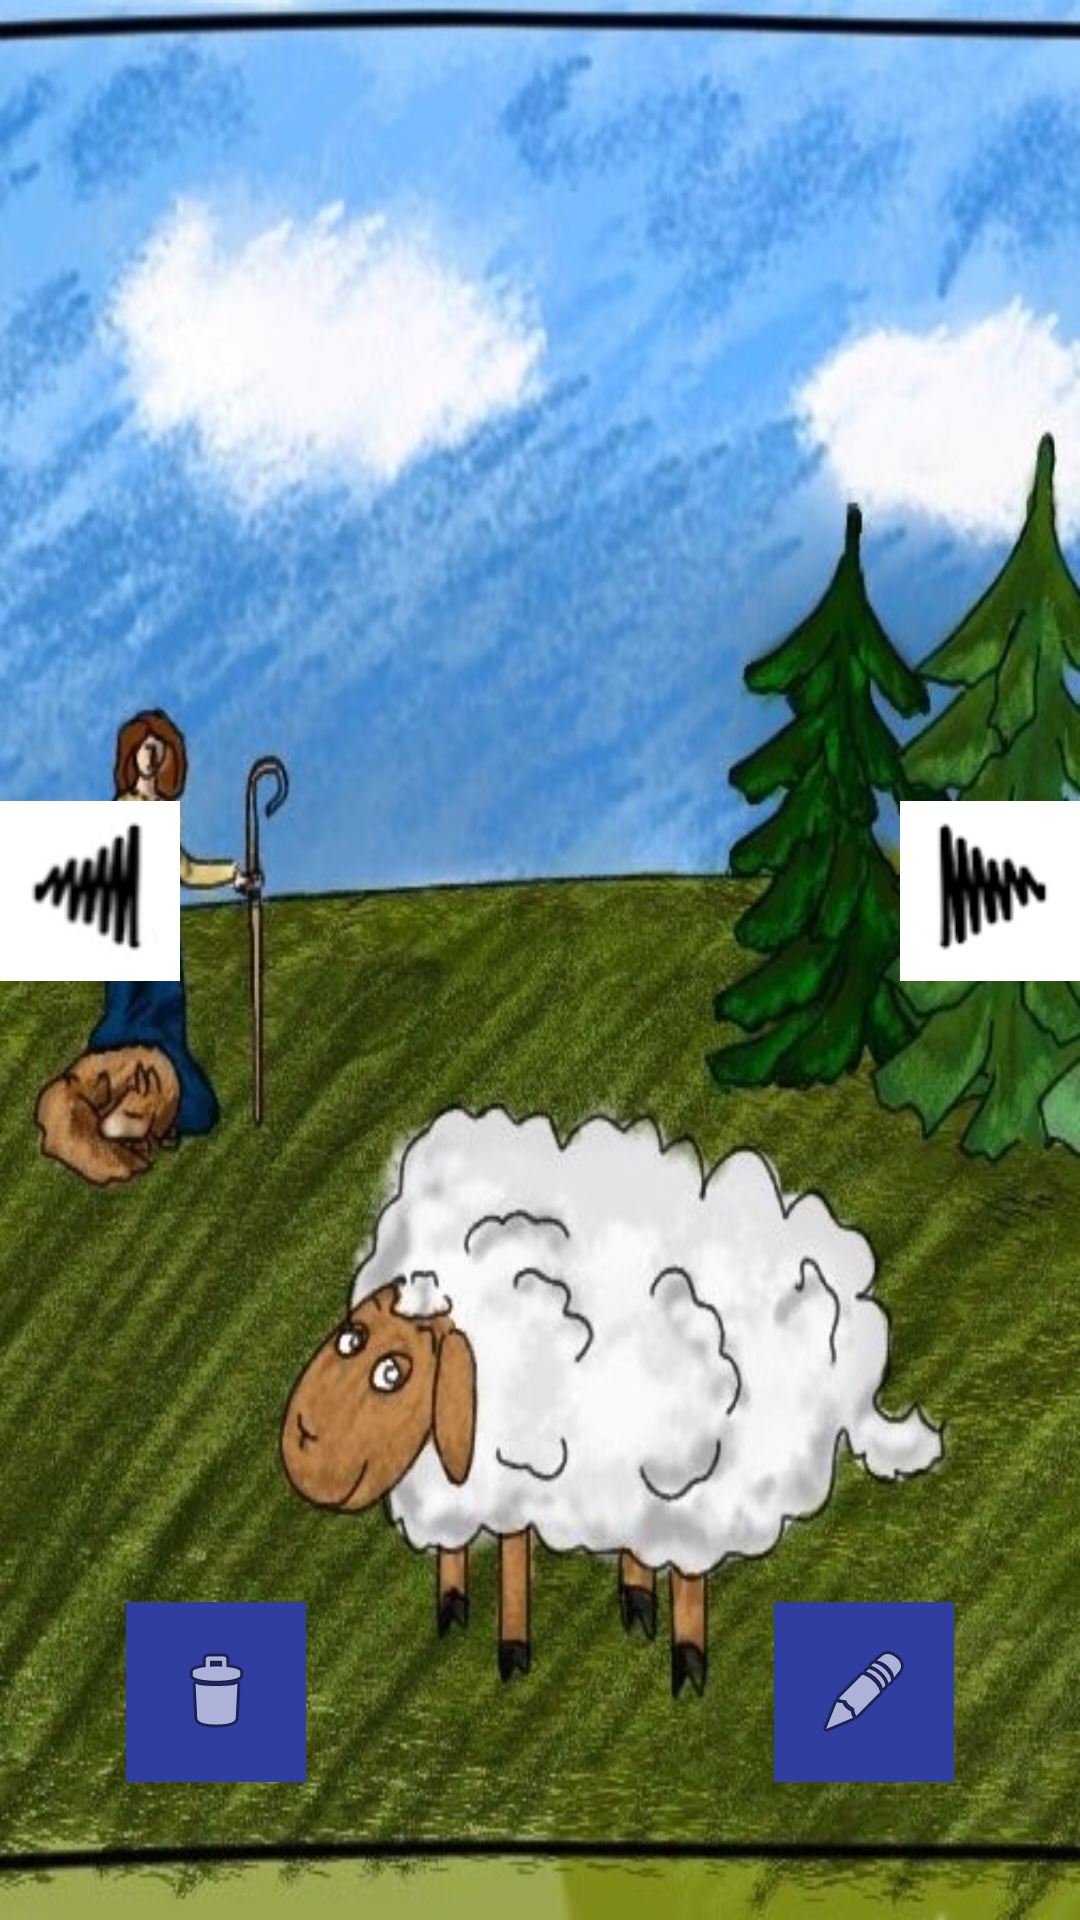

Point at icon controls on the screen. Image size 1080x1920, points as (x,y).
Delete word: (216,1692)
Edit word: (864,1692)
Next word: (990,891)
Previous word: (90,891)
